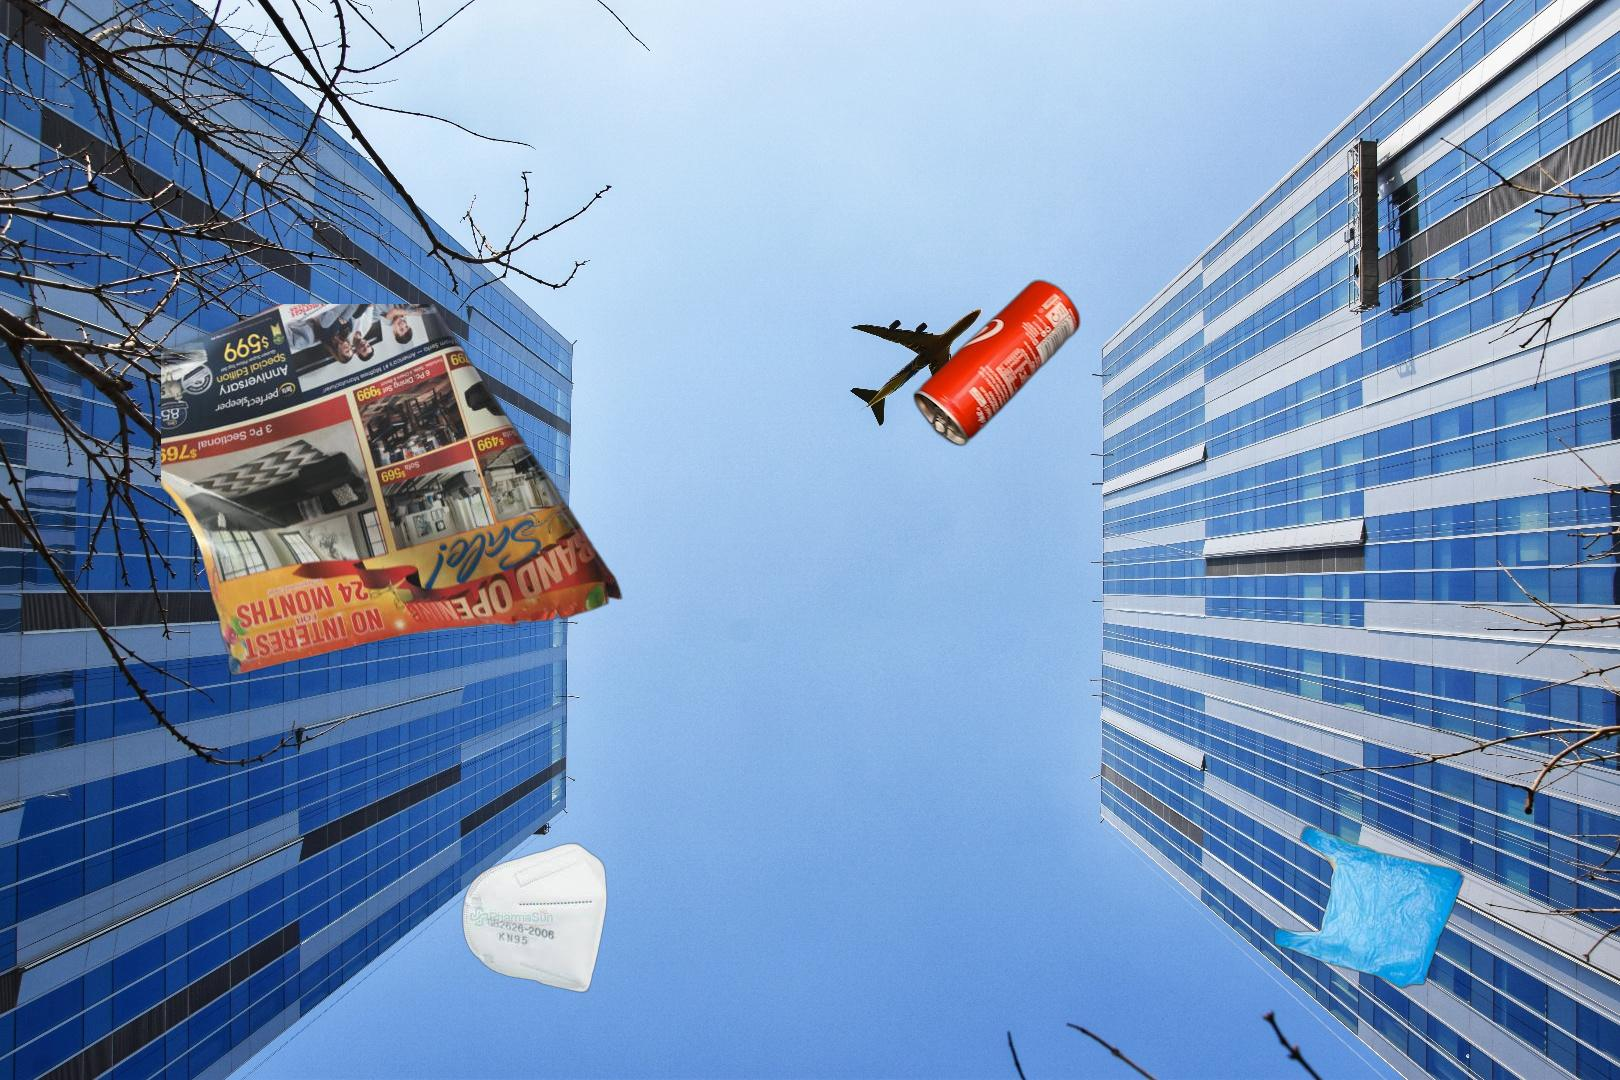metal-cans: (909, 274, 1084, 452)
paper: (162, 304, 627, 679)
plastic-bag: (1273, 729, 1525, 992)
trash: (460, 841, 610, 994)
